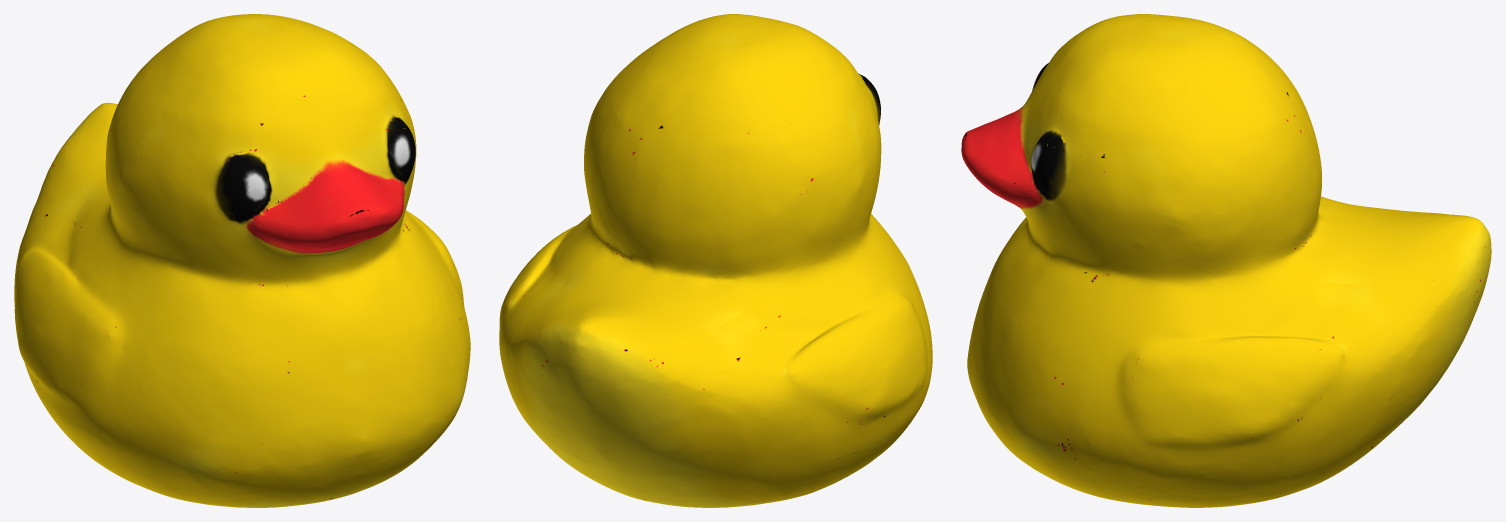
File: betting-duck.glb
The picture shows the model from 3 angles, left to right: view 1: azimuth 30°, elevation 25°; view 2: azimuth 150°, elevation 25°; view 3: azimuth 270°, elevation 25°; orthographic projection. The views are drawn at different scales.
Parts seen in each view (by area): view 1: Mesh1; view 2: Mesh1; view 3: Mesh1.
Part boxes in pixels (x1,y1,x2,y2): Mesh1: (14, 14, 470, 507); Mesh1: (499, 14, 932, 507); Mesh1: (961, 14, 1491, 507).
Bounding box in the file's own units: 1.6 × 1.67 × 1.89.
1 material, 1 textured.
